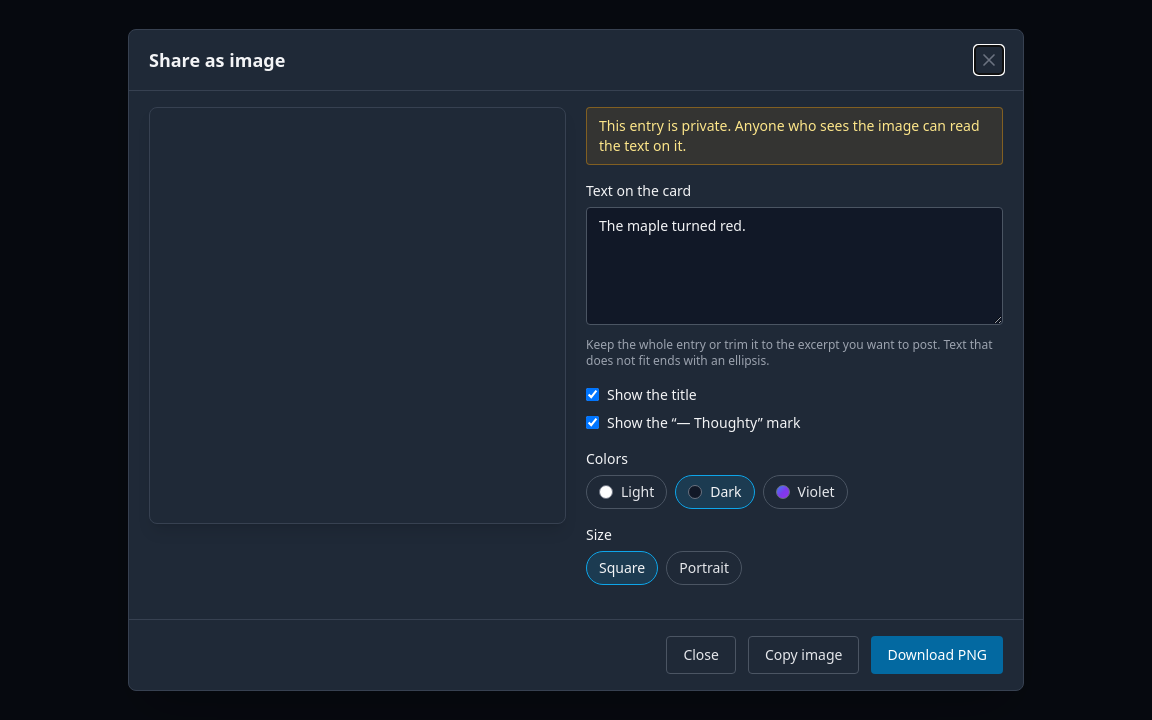
Test: ShareImageDialog › reports a card the browser could not encode
Click the button "Download PNG" at (937, 655), box left=871, top=636, right=1003, bottom=674
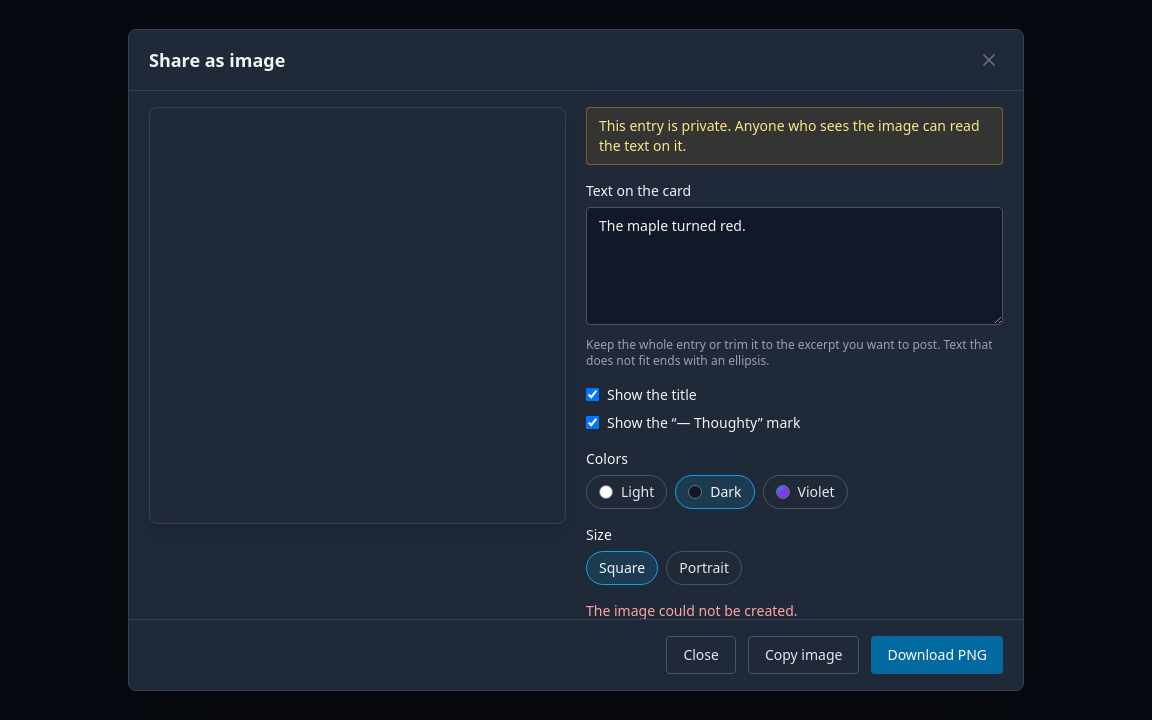
Now the text "The image could not be created." is shown, box left=586, top=601, right=798, bottom=619
